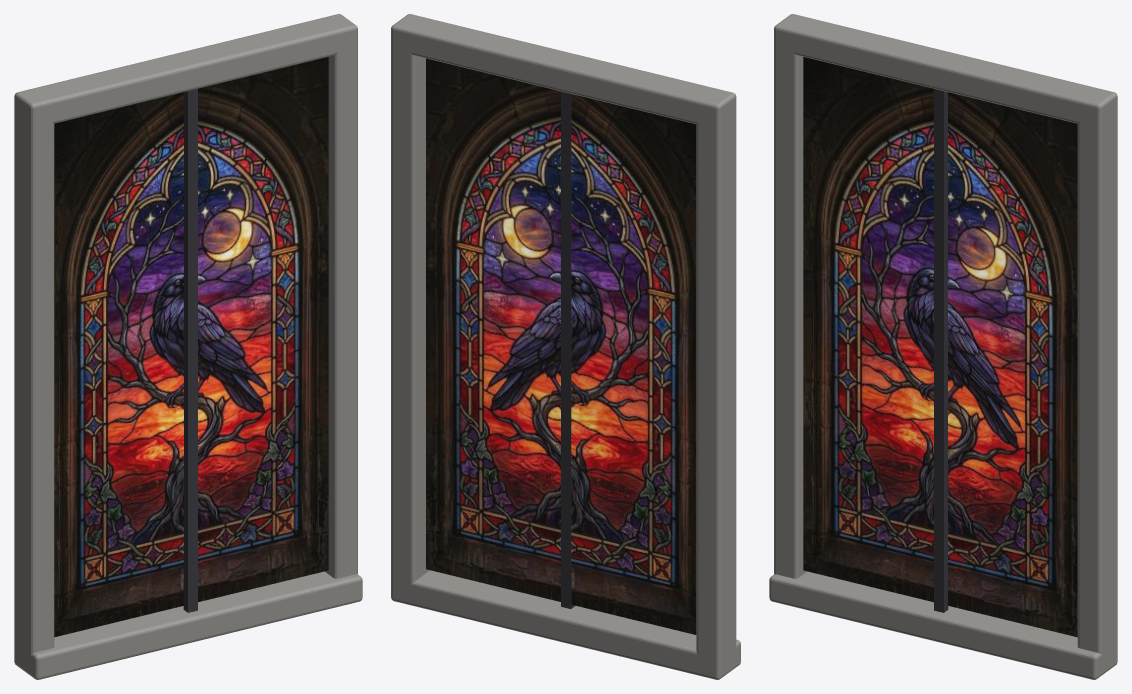
The model's file is art_glass_raven_sunset.glb.
3 renders of one model, left to right at view 1: azimuth 30°, elevation 25°; view 2: azimuth 150°, elevation 25°; view 3: azimuth 330°, elevation 25°, orthographic.
Parts seen in each view (by area): view 1: GD_art_glass_raven_sunset__m0, GD_art_glass_raven_sunset__m1, GD_art_glass_raven_sunset__m2; view 2: GD_art_glass_raven_sunset__m0, GD_art_glass_raven_sunset__m1, GD_art_glass_raven_sunset__m2; view 3: GD_art_glass_raven_sunset__m0, GD_art_glass_raven_sunset__m1, GD_art_glass_raven_sunset__m2.
Boxes of the visible parts, x1,y1,x2,y2 form: GD_art_glass_raven_sunset__m0: [54, 57, 328, 637]; GD_art_glass_raven_sunset__m1: [14, 14, 362, 679]; GD_art_glass_raven_sunset__m2: [183, 88, 197, 612]; GD_art_glass_raven_sunset__m0: [426, 58, 696, 634]; GD_art_glass_raven_sunset__m1: [391, 14, 740, 679]; GD_art_glass_raven_sunset__m2: [561, 91, 575, 608]; GD_art_glass_raven_sunset__m0: [803, 57, 1077, 637]; GD_art_glass_raven_sunset__m1: [769, 14, 1117, 679]; GD_art_glass_raven_sunset__m2: [934, 88, 948, 612].
Bounding box in the file's own units: 0.82 × 1.37 × 0.1.
Materials: 3 (1 with a texture image).
